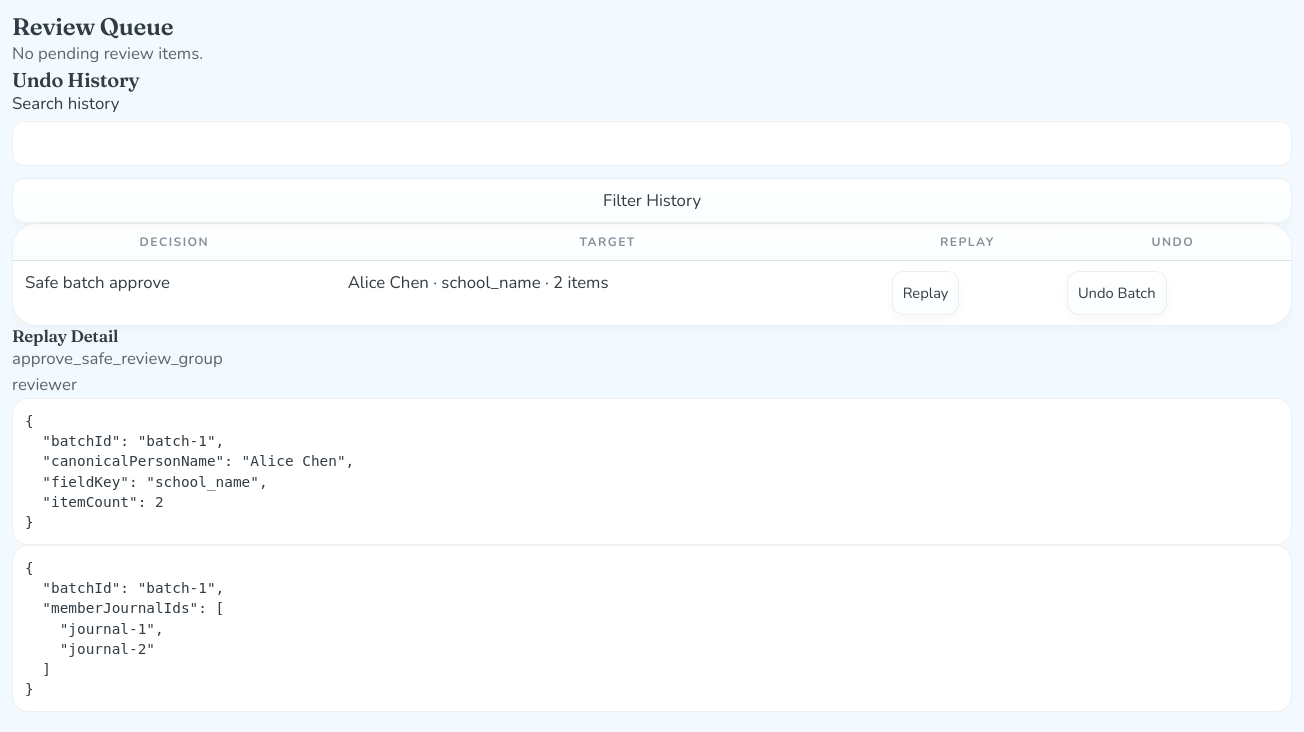
Scenario: ReviewQueuePage › renders a safe batch journal row and undoes it from the existing history entry point
Expected: the text "Safe batch approve" is shown, [13,261,336,325]
Expected: the text "Alice Chen · school_name · 2 items" is shown, [336,261,880,325]
Click the button "Undo Batch" at (1117, 293), box [1067,271,1167,315]
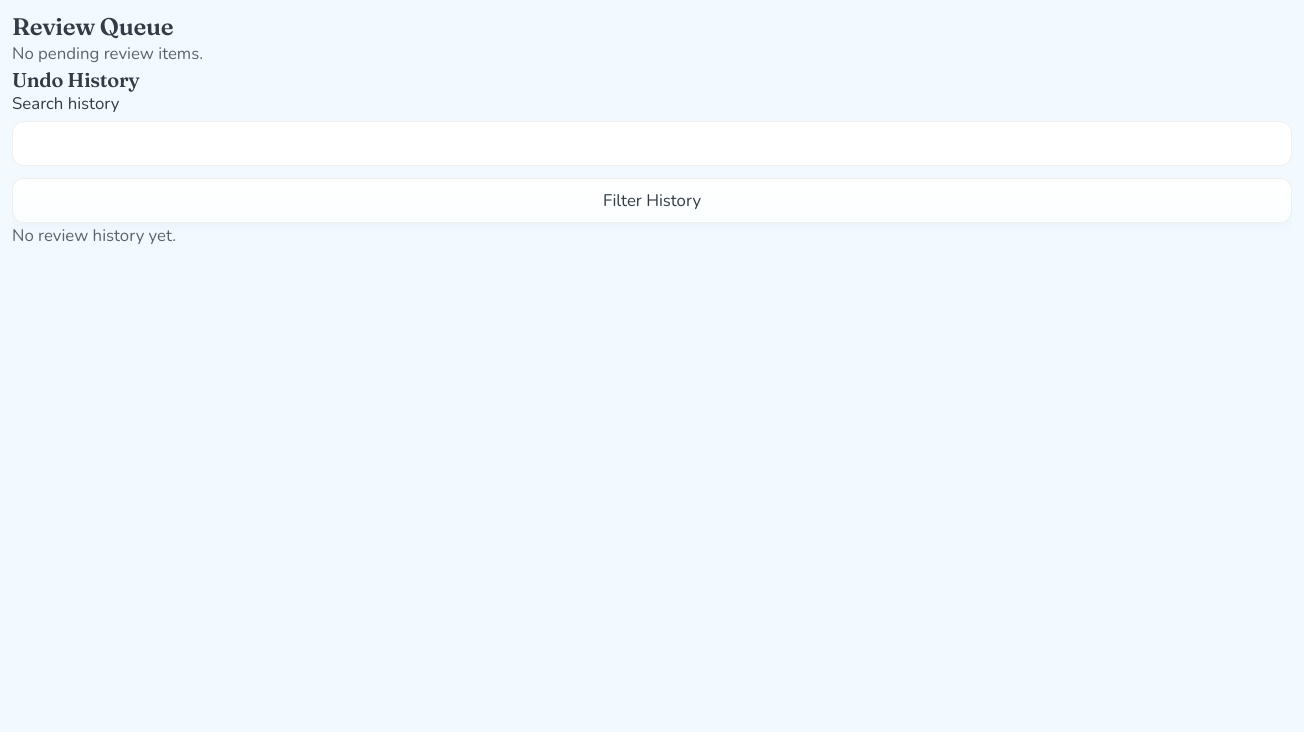
Now the text "No review history yet." is shown, box [12,224,176,247]
